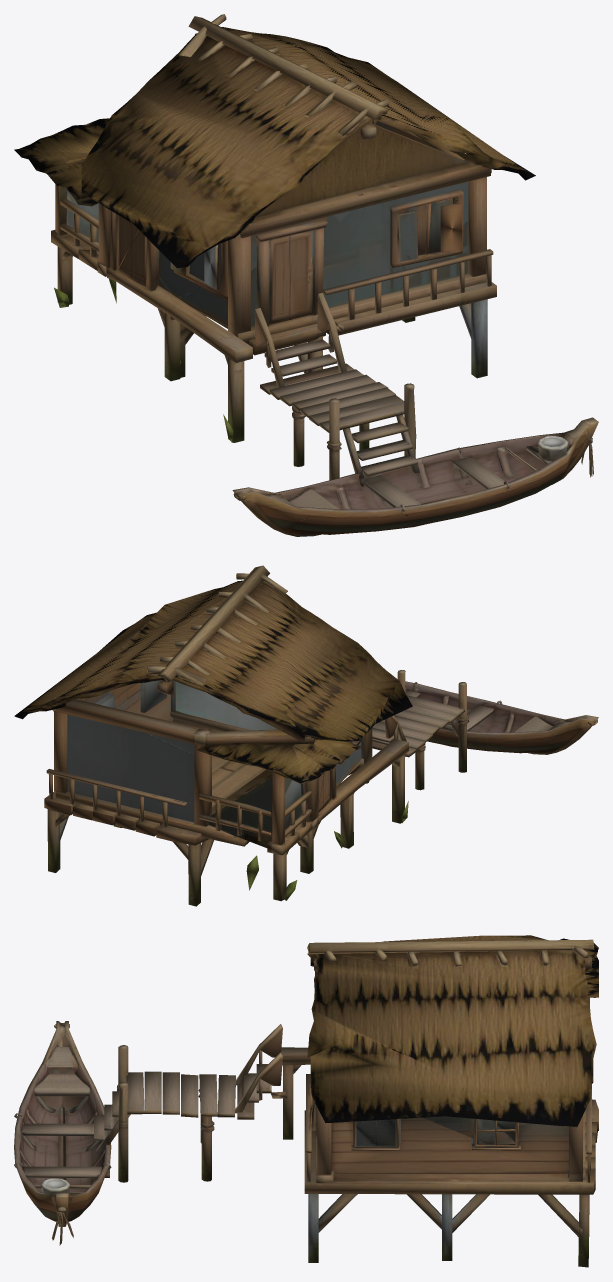
Rendered from 019e3eee-214e-75ae-b912-a989c7251298.glb.
3 views of the same model, one above another, from view 1: azimuth 30°, elevation 25°; view 2: azimuth 150°, elevation 25°; view 3: azimuth 270°, elevation 25° (orthographic). The views are drawn at different scales.
Parts seen in each view (by area): view 1: tripo_node_5b35cf2f-9143-442a-b809-44731038dd0e; view 2: tripo_node_5b35cf2f-9143-442a-b809-44731038dd0e; view 3: tripo_node_5b35cf2f-9143-442a-b809-44731038dd0e.
Boxes of the visible parts, x1,y1,x2,y2 form: tripo_node_5b35cf2f-9143-442a-b809-44731038dd0e: (14,14,598,536); tripo_node_5b35cf2f-9143-442a-b809-44731038dd0e: (14,565,598,906); tripo_node_5b35cf2f-9143-442a-b809-44731038dd0e: (14,935,598,1267).
Bounding box in the file's own units: 0.8066 × 0.5137 × 0.998.
1 material, 1 textured.
